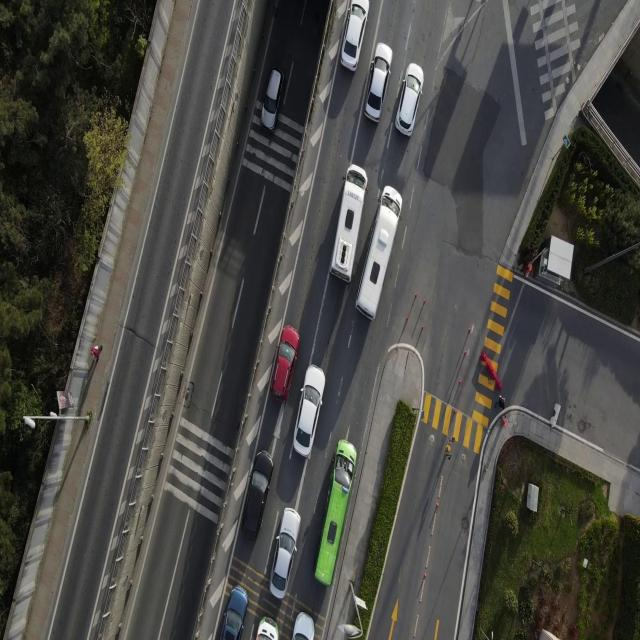p3rson: (90, 344, 102, 362), (495, 394, 505, 410)
